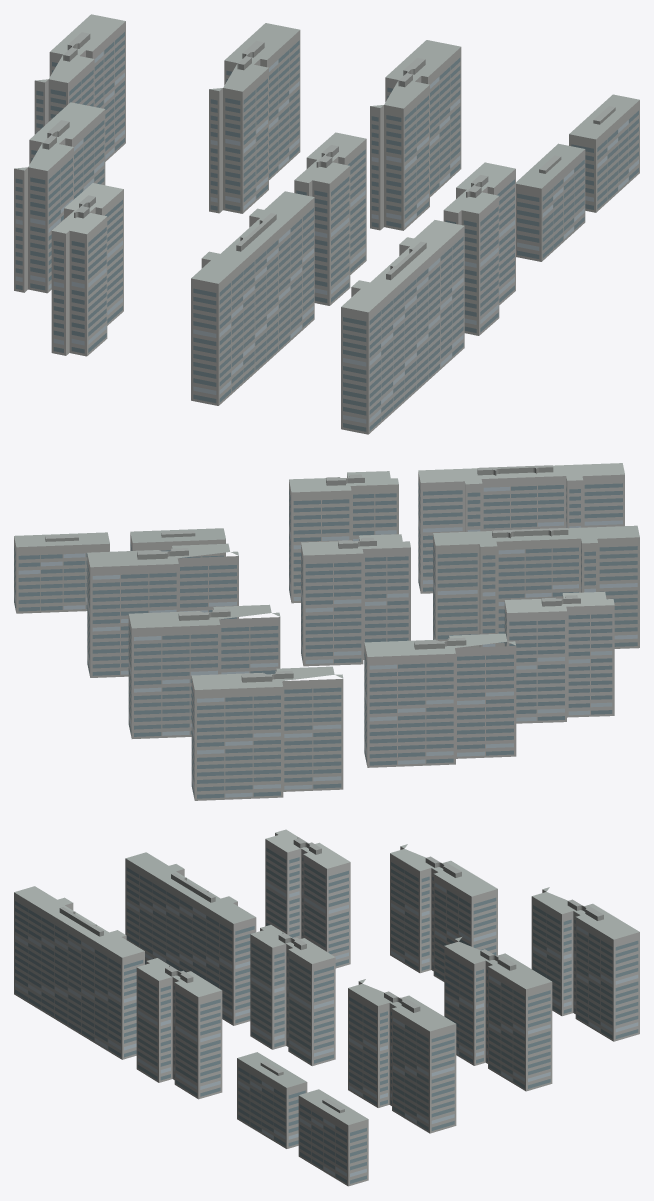
Rendered from apt-a14206310.glb.
The picture shows the model from 3 angles, top to bottom: view 1: azimuth 30°, elevation 25°; view 2: azimuth 150°, elevation 25°; view 3: azimuth 270°, elevation 25°; orthographic projection. The views are drawn at different scales.
Parts seen in each view (by area): view 1: apt-a14206310; view 2: apt-a14206310; view 3: apt-a14206310.
Part boxes in pixels (x1,y1,x2,y2): apt-a14206310: (14, 14, 639, 434); apt-a14206310: (14, 463, 639, 800); apt-a14206310: (14, 829, 639, 1186).
Bounding box in the file's own units: 245 × 47.81 × 254.
